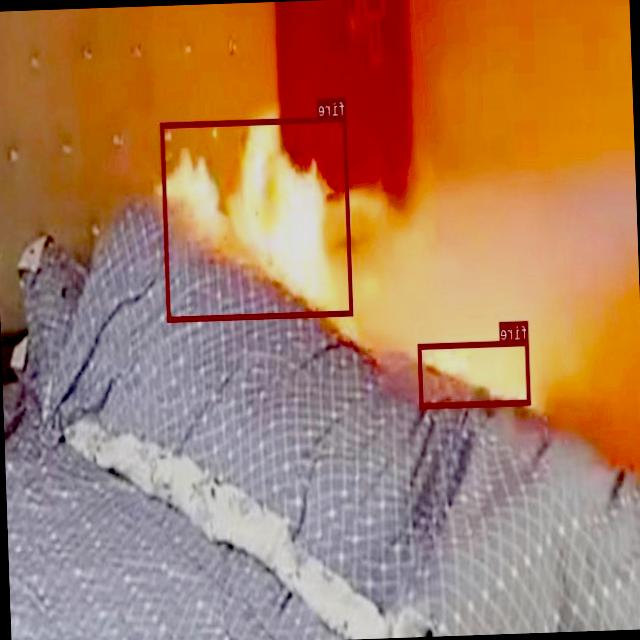fire: (161, 114, 353, 320), (418, 338, 532, 408)
